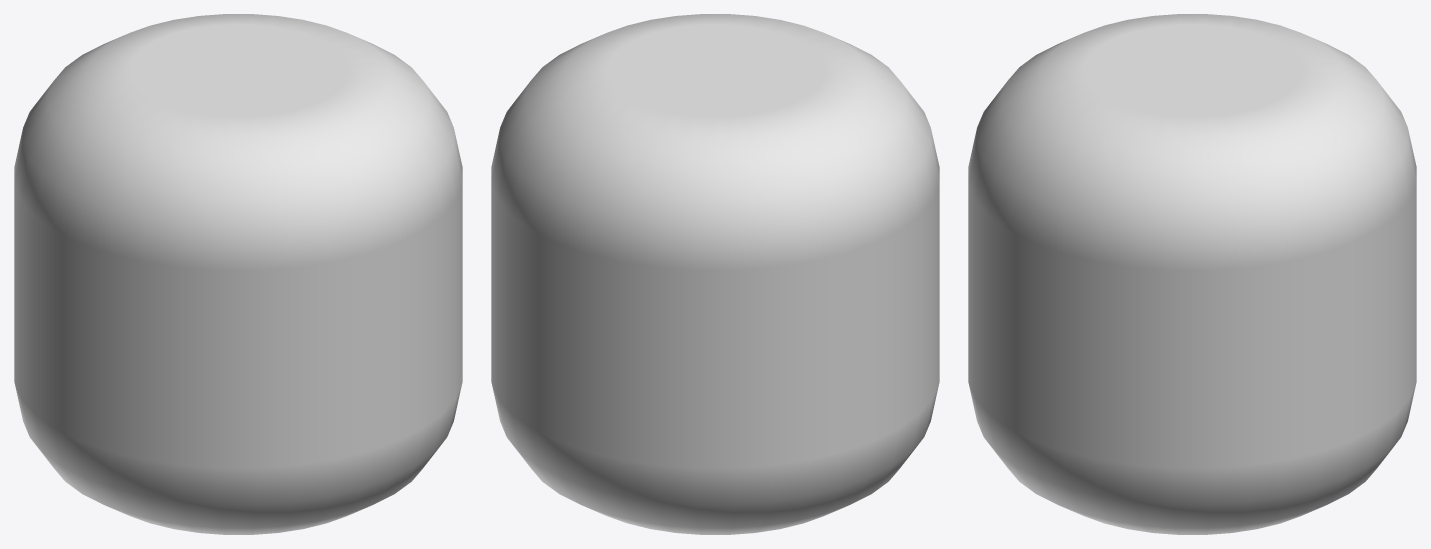
File: 16-Nervous-Silly-Face-face.glb
3 renders of one model, left to right at view 1: azimuth 30°, elevation 25°; view 2: azimuth 150°, elevation 25°; view 3: azimuth 270°, elevation 25°, orthographic.
Visible parts, largest first — view 1: 16-Nervous-Silly-Face-face; view 2: 16-Nervous-Silly-Face-face; view 3: 16-Nervous-Silly-Face-face.
Boxes of the visible parts, box(x1,y1,x2,y2) form: 16-Nervous-Silly-Face-face: box(14, 14, 462, 534); 16-Nervous-Silly-Face-face: box(491, 14, 939, 534); 16-Nervous-Silly-Face-face: box(968, 14, 1416, 534).
Size of the model in its own units: 1.16 by 1.17 by 1.16.
1 material, 1 textured.
